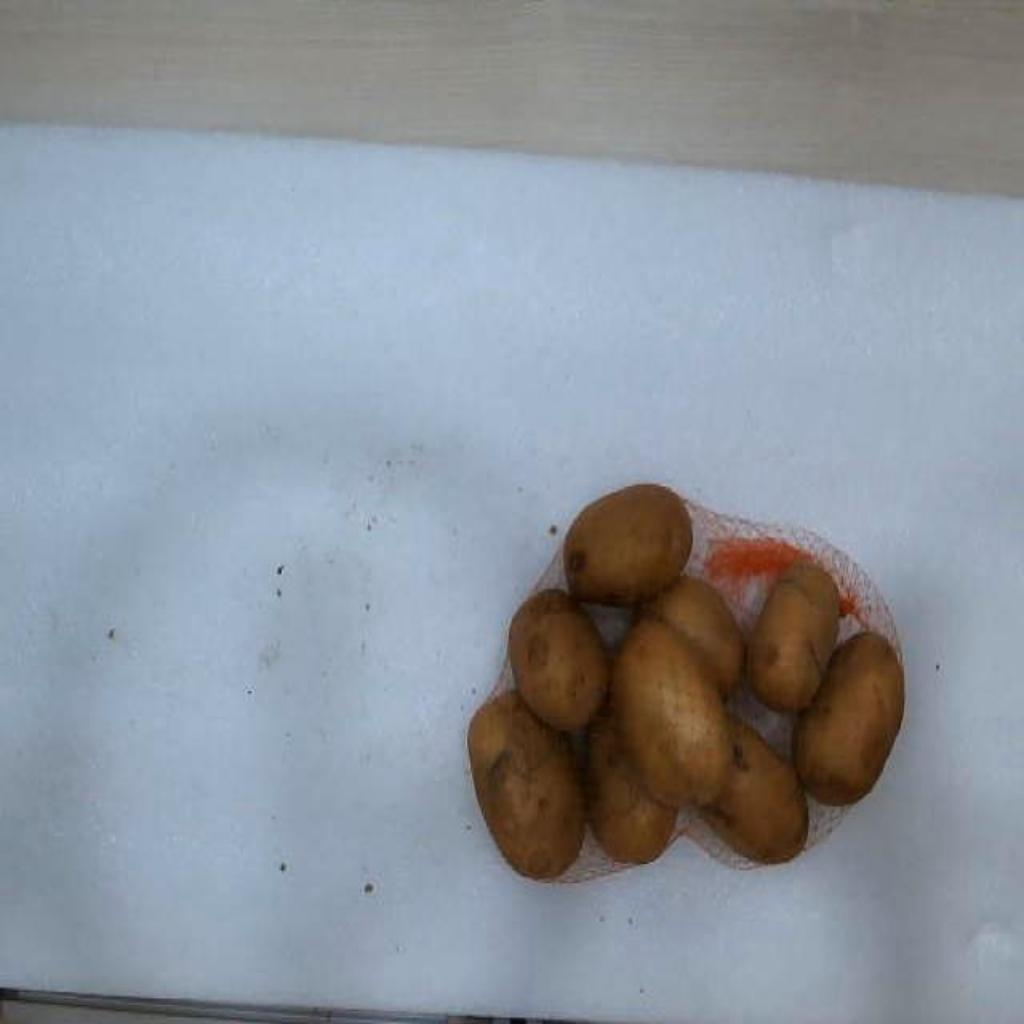potato: (610, 616, 728, 804), (470, 691, 586, 879), (794, 632, 904, 804), (564, 485, 692, 604), (702, 720, 804, 863), (510, 592, 610, 731), (588, 709, 678, 863), (748, 563, 838, 709), (642, 576, 744, 697)
